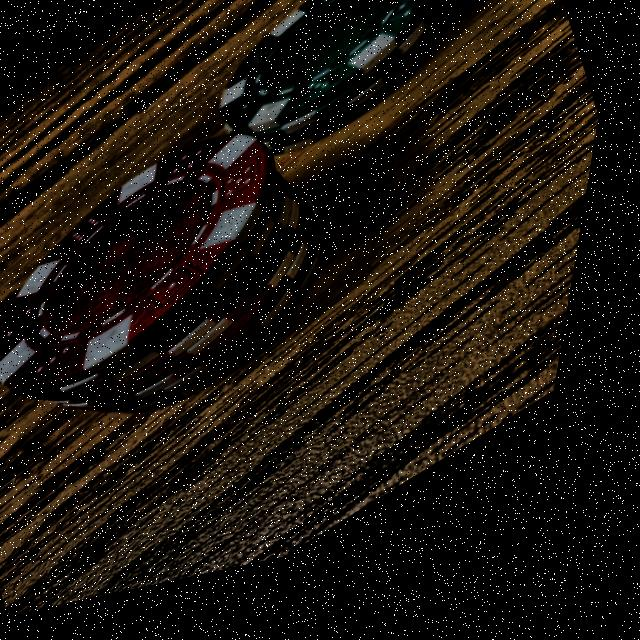Chip: (0, 40, 430, 532), (169, 0, 522, 237)
